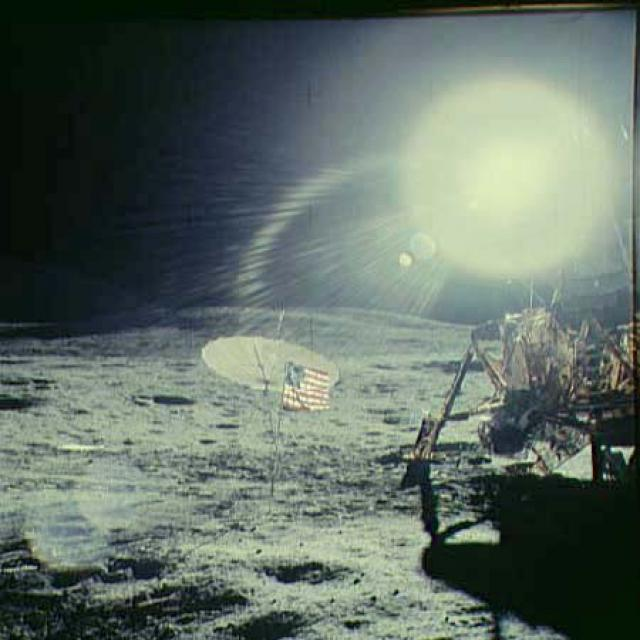crater: (248, 534, 376, 600), (370, 336, 500, 396), (120, 364, 215, 427), (0, 377, 78, 431)
